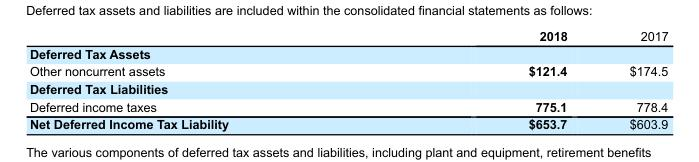table: (28, 28, 667, 131)
table column: (28, 28, 377, 131), (377, 28, 597, 131), (597, 28, 667, 131)
table column header: (28, 28, 667, 44)
table projected row header: (28, 44, 667, 62), (28, 79, 667, 97)
table row: (28, 44, 667, 62), (28, 79, 667, 97), (28, 97, 667, 115), (28, 62, 667, 79), (28, 28, 667, 44), (28, 115, 667, 131)
